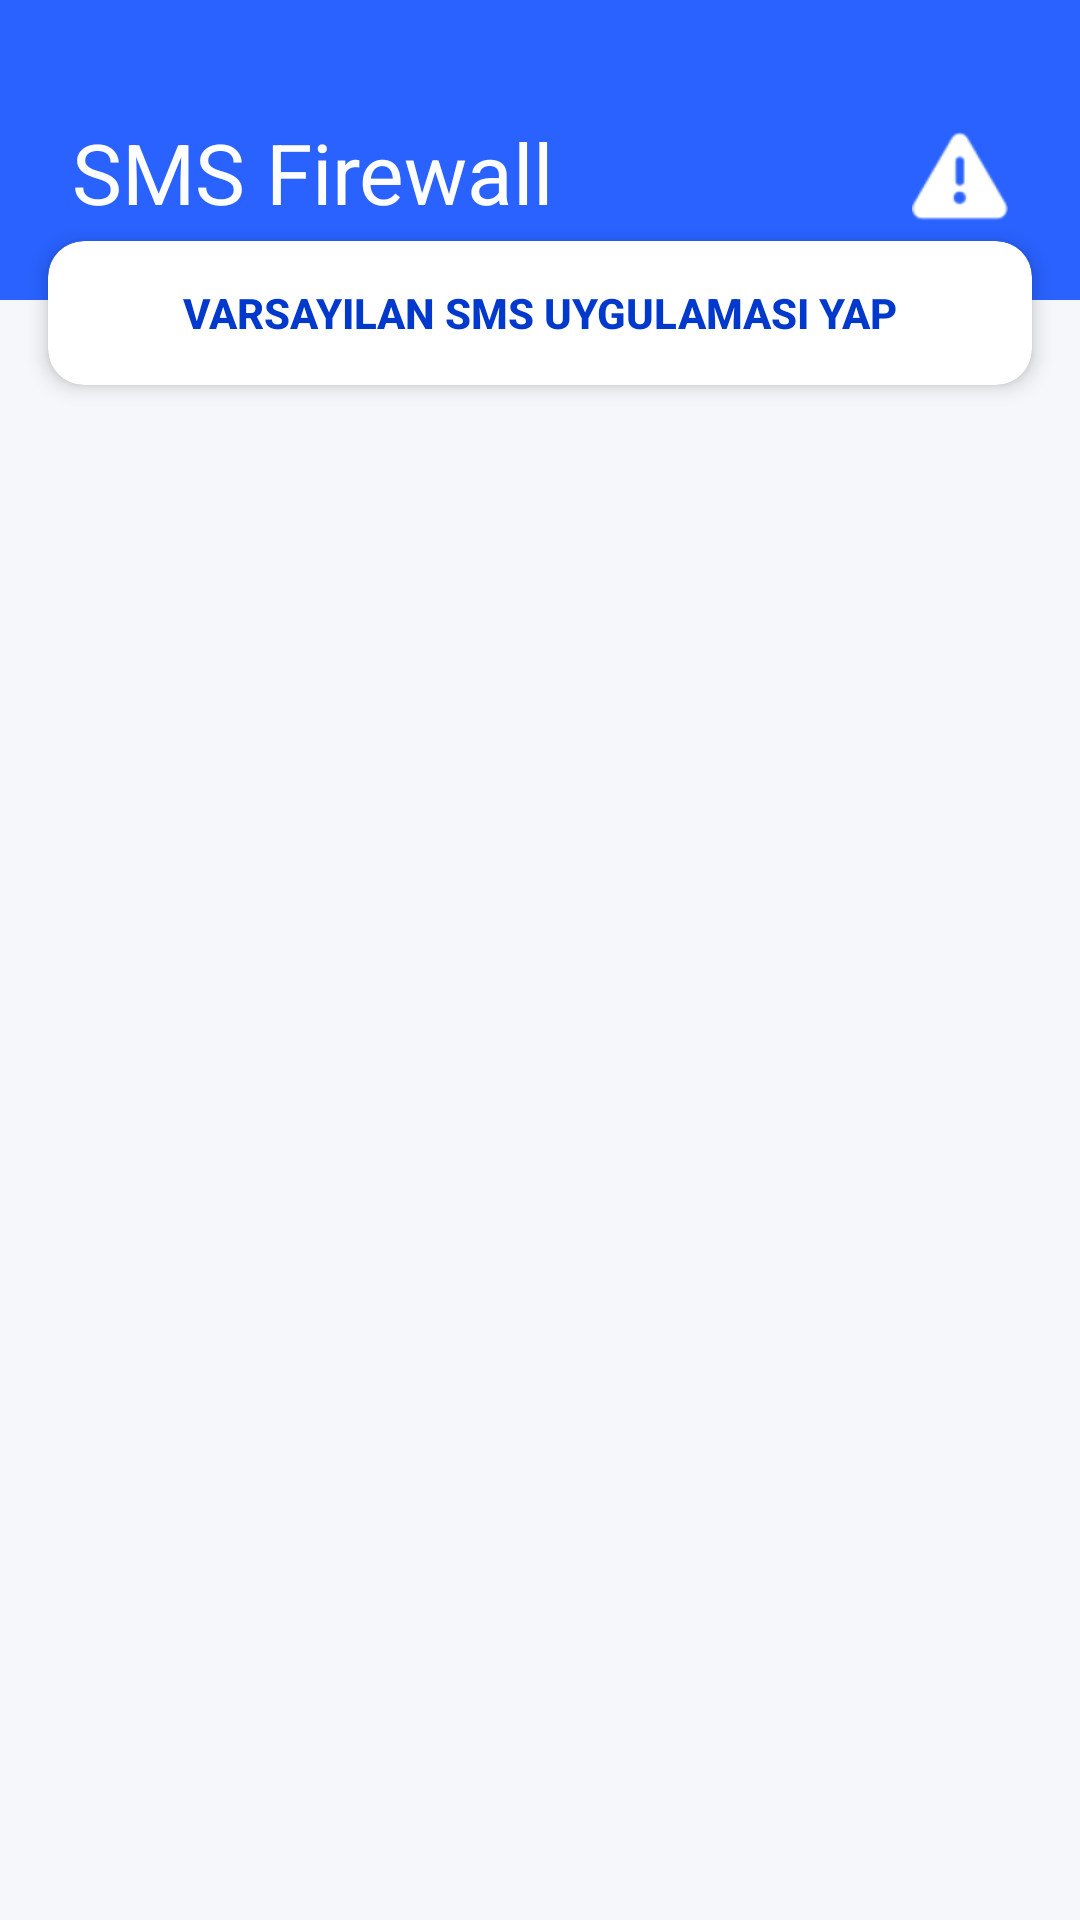

Named icons in this screenshot (1080x1920) and their centers, (x,y):
alert: (960,176)
